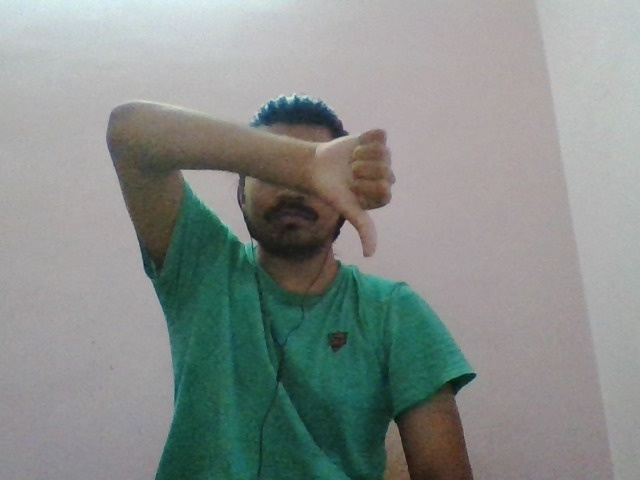ThumbsDown: (315, 126, 396, 261)
